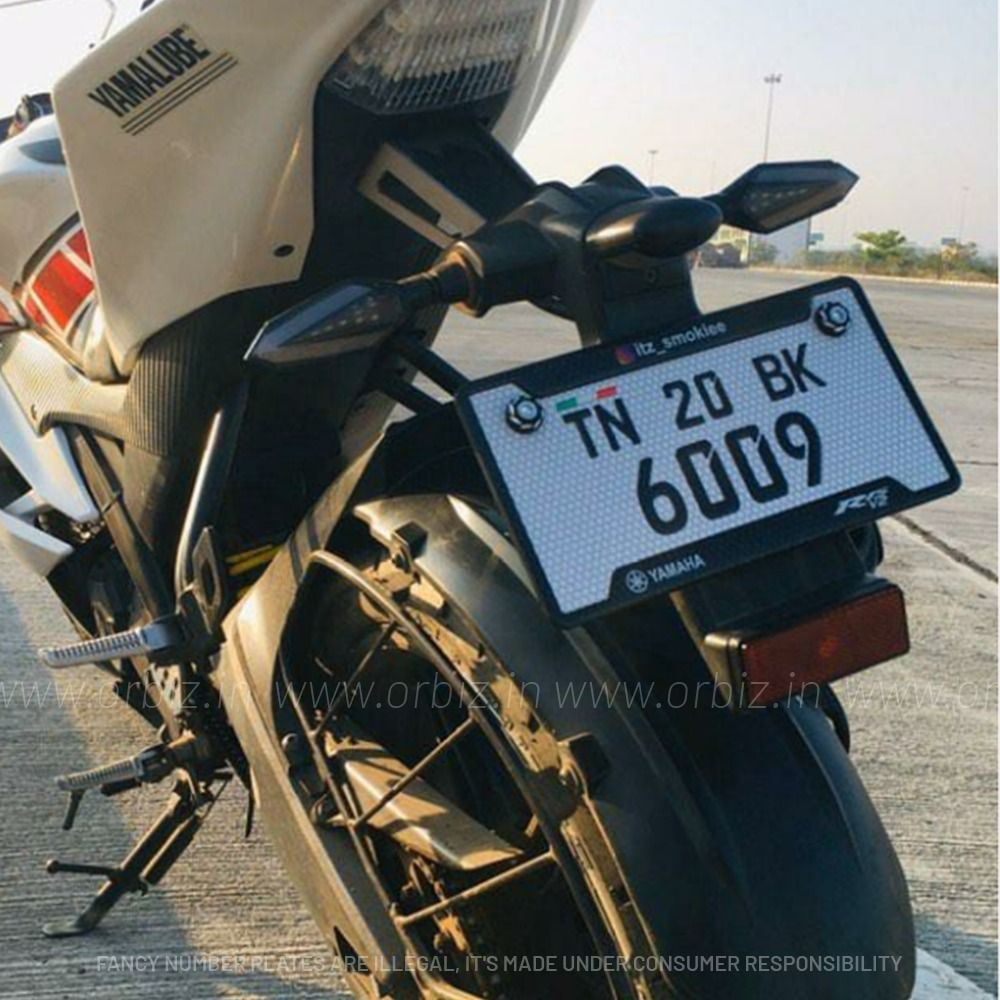numberplate: (464, 258, 973, 637)
